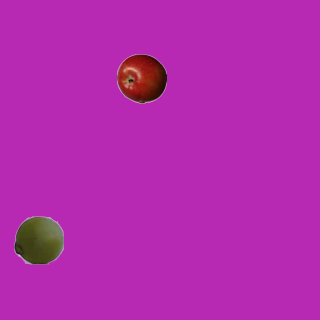Apple Braeburn: (116, 53, 166, 103)
Grape White 4: (13, 214, 63, 264)
